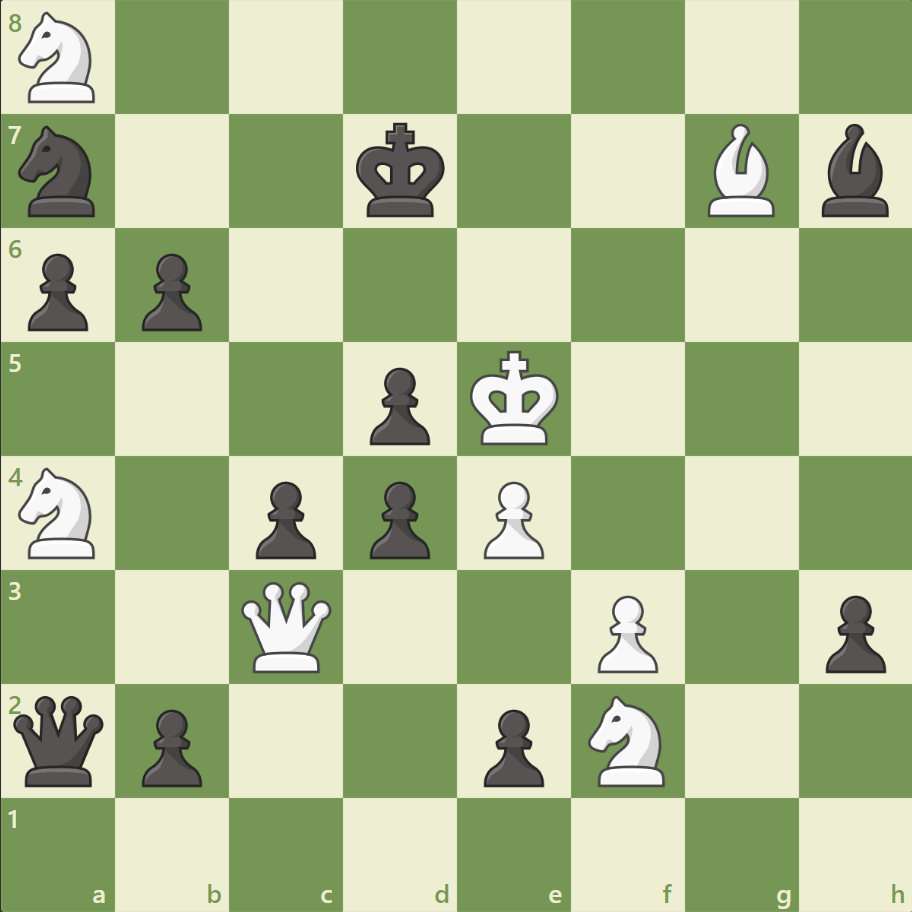B: (698, 120, 782, 222)
K: (465, 344, 565, 452)
N: (11, 7, 108, 110), (11, 461, 108, 564), (579, 688, 676, 791)
P: (474, 473, 549, 564), (588, 586, 662, 677)
Q: (237, 576, 336, 676)
b: (812, 120, 896, 222)
k: (351, 117, 451, 225)
n: (11, 121, 108, 223)
p: (20, 246, 95, 337), (133, 246, 208, 337), (247, 473, 322, 564), (133, 700, 208, 791), (474, 700, 549, 791), (361, 359, 435, 450), (361, 473, 435, 564), (815, 586, 889, 677)
q: (10, 690, 109, 789)
